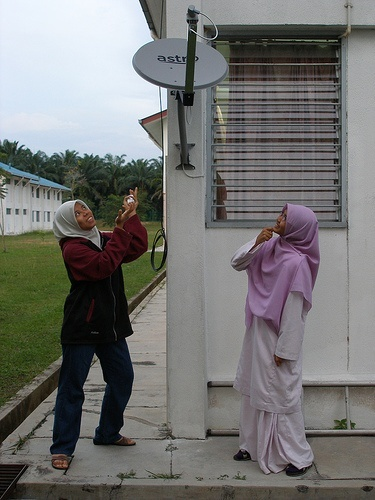head: (265, 200, 312, 240), (52, 200, 98, 233)
person: (48, 190, 149, 463), (230, 198, 319, 478)
